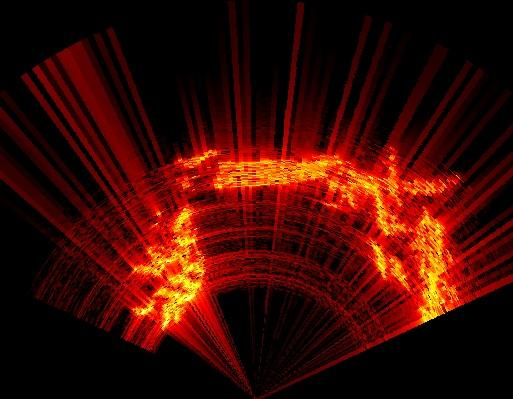shipwreck: (179, 151, 458, 322), (129, 205, 207, 331)
